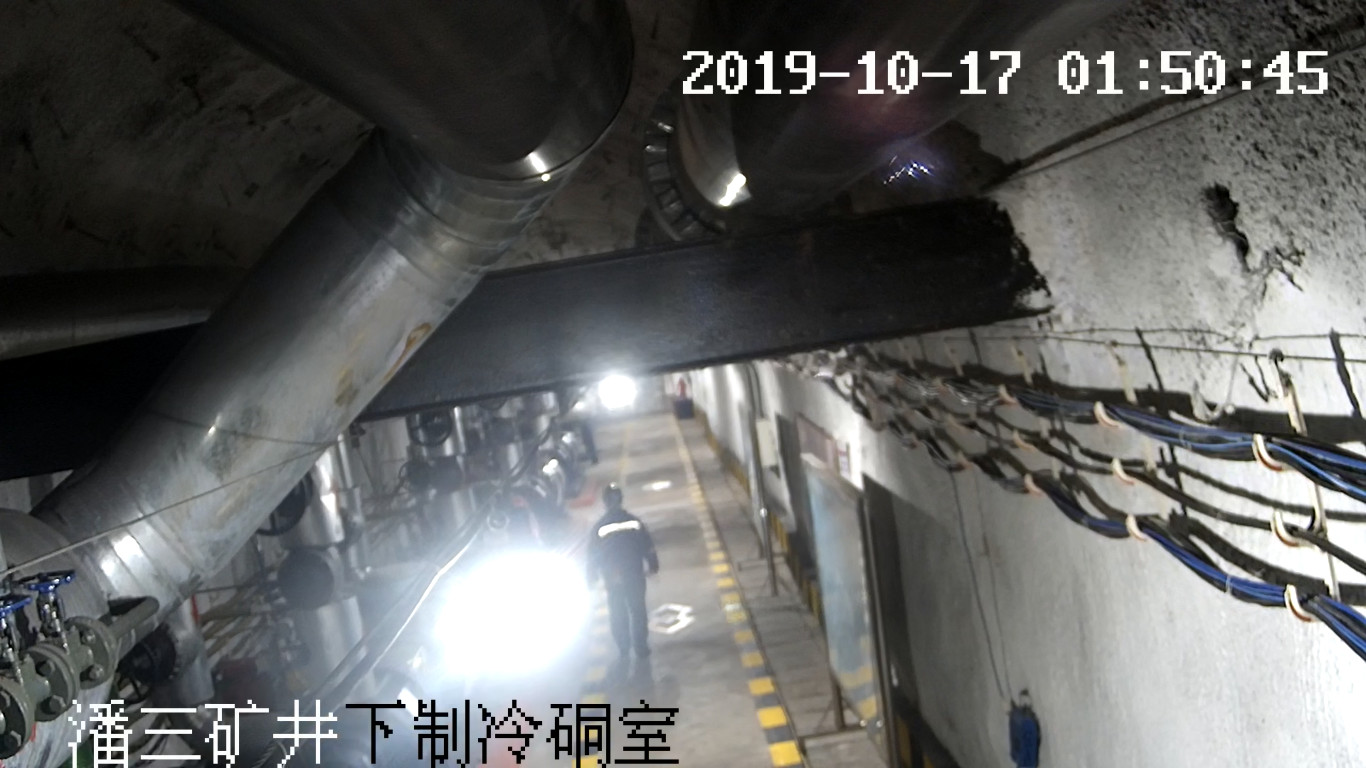helmet: (600, 482, 625, 502)
